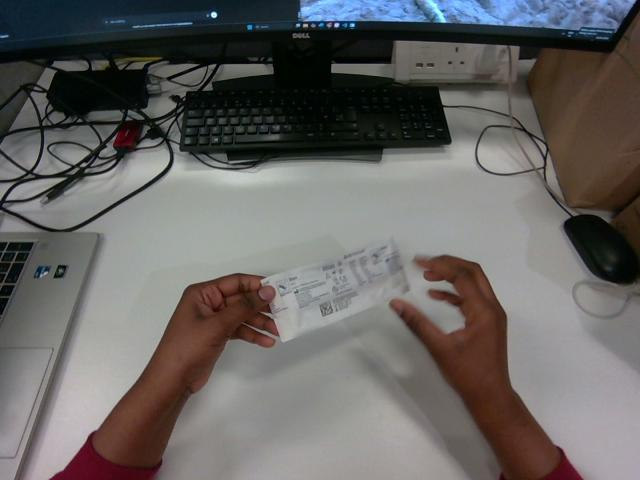syringe: (262, 239, 408, 340)
